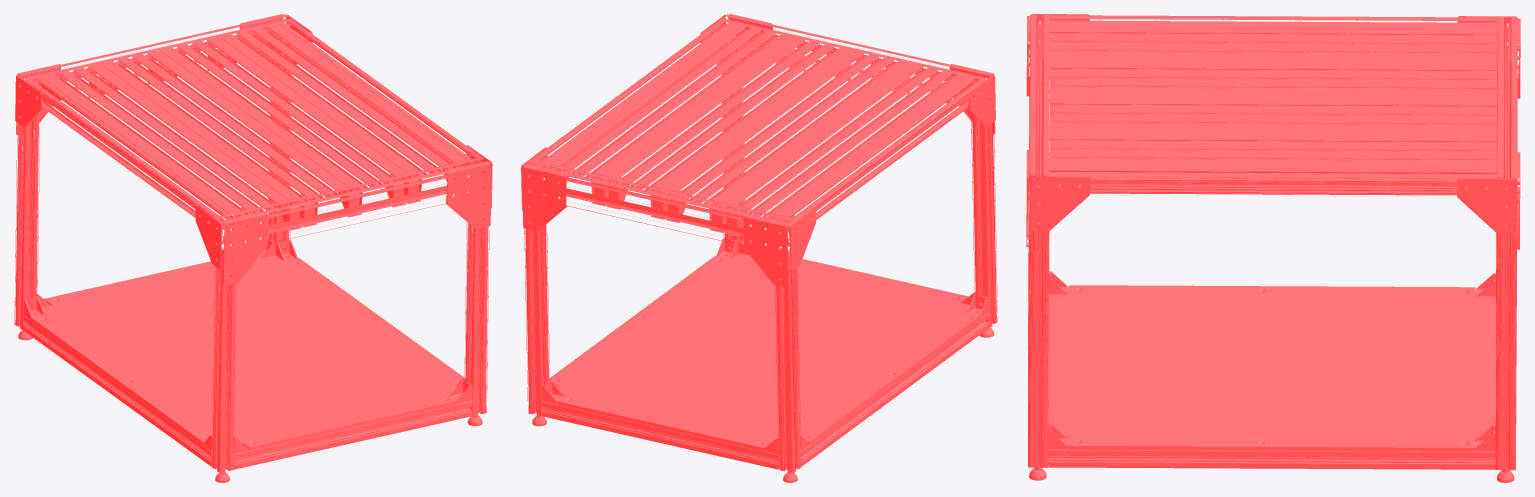
The model's file is Vention_Table-vention_table.dae.
The picture shows the model from 3 angles, left to right: view 1: azimuth 30°, elevation 25°; view 2: azimuth 150°, elevation 25°; view 3: azimuth 270°, elevation 25°; orthographic projection. The views are drawn at different scales.
Parts seen in each view (by area): view 1: node0; view 2: node0; view 3: node0.
Boxes of the visible parts, x1,y1,x2,y2 form: node0: [14, 14, 492, 482]; node0: [521, 14, 997, 482]; node0: [1026, 14, 1520, 482].
Size of the model in its own units: 0.8297 by 1.09 by 0.7747.
